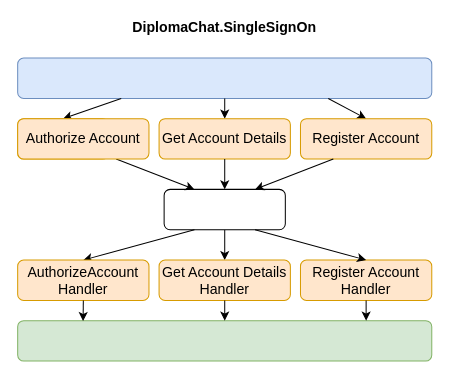
The diagram is 449 pixels wide and 379 high, and some of its shapes have lost their labels. Here are the shapes that lost their labels. From the top down, the centre of each, then its label:
[224,77]: Account Controller
[224,209]: Посредник
[224,340]: Entity Framework
